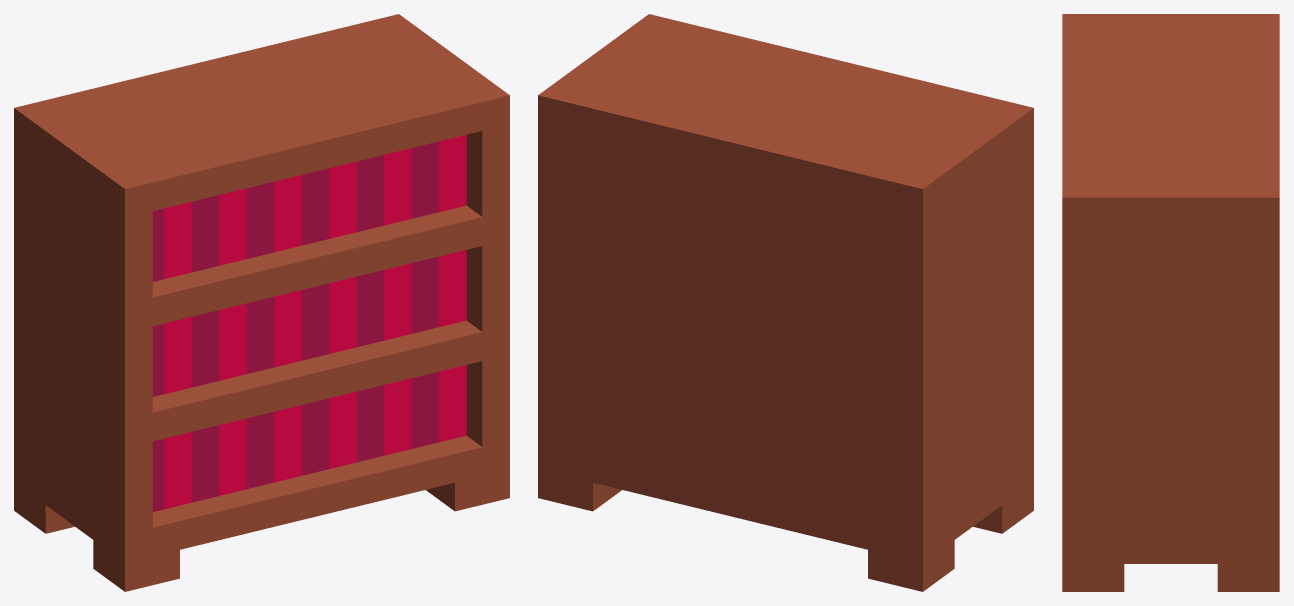
File: large_bookcase_a_red.obj
The picture shows the model from 3 angles, left to right: view 1: azimuth 30°, elevation 25°; view 2: azimuth 150°, elevation 25°; view 3: azimuth 270°, elevation 25°; orthographic projection. The views are drawn at different scales.
Size of the model in its own units: 1.4 by 1.4 by 0.7.
1 material, 1 textured.
